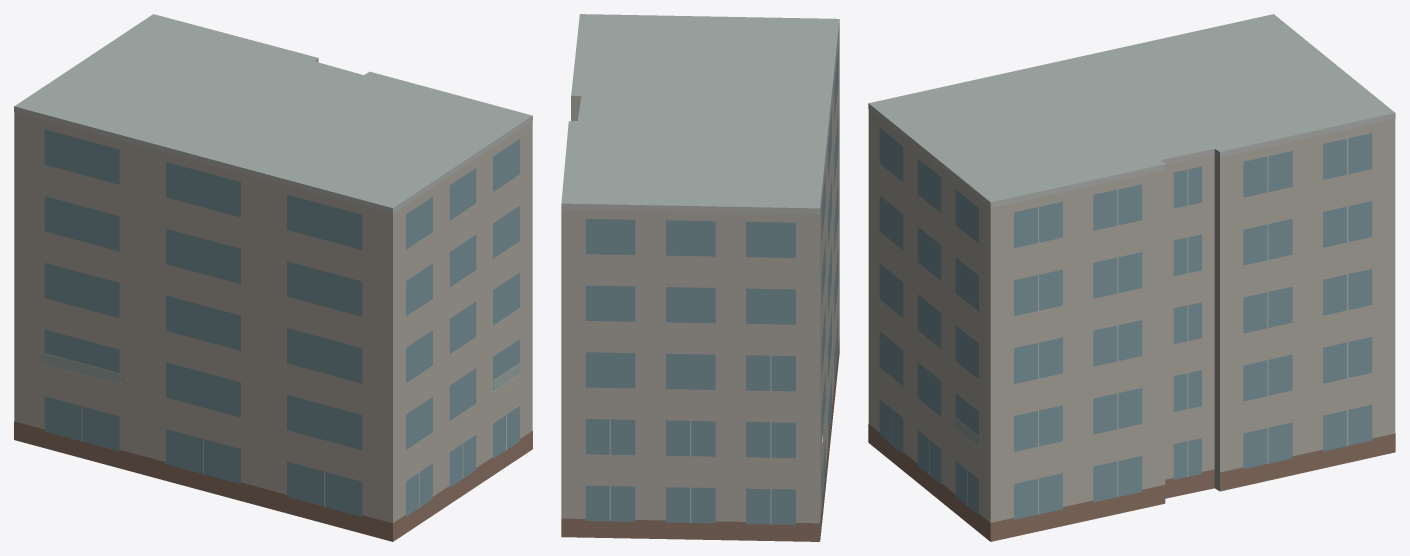
The model's file is survey-upis-32831026.glb.
3 renders of one model, left to right at view 1: azimuth 30°, elevation 25°; view 2: azimuth 150°, elevation 25°; view 3: azimuth 270°, elevation 25°, orthographic.
Visible parts, largest first — view 1: survey-upis-32831026.tmp; view 2: survey-upis-32831026.tmp; view 3: survey-upis-32831026.tmp.
Part boxes in pixels (bbox=[...]): survey-upis-32831026.tmp: bbox=[14, 14, 532, 541]; survey-upis-32831026.tmp: bbox=[561, 14, 839, 541]; survey-upis-32831026.tmp: bbox=[868, 14, 1395, 541].
Size of the model in its own units: 17.27 by 14.5 by 20.41.
